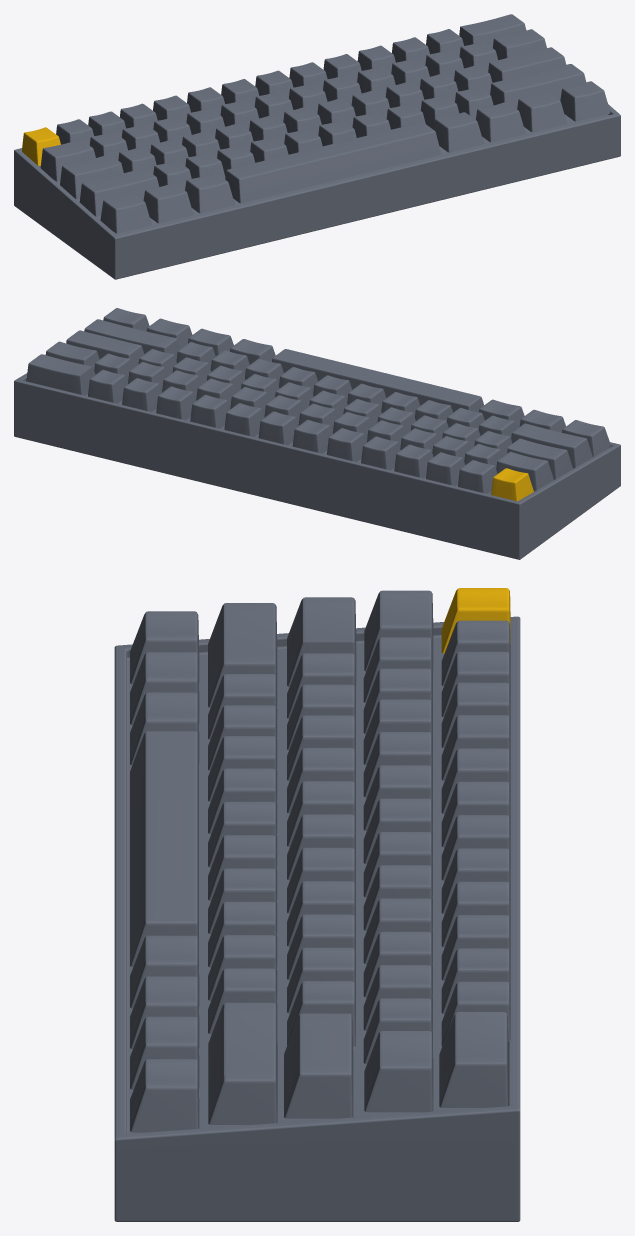
File: keyboard.glb
3 views of the same model, one above another, from view 1: azimuth 30°, elevation 25°; view 2: azimuth 150°, elevation 25°; view 3: azimuth 270°, elevation 25° (orthographic). The views are drawn at different scales.
Parts seen in each view (by area): view 1: MechKeyboard_01; view 2: MechKeyboard_01; view 3: MechKeyboard_01.
Boxes of the visible parts, bbox=[...] form: MechKeyboard_01: bbox=[14, 14, 620, 279]; MechKeyboard_01: bbox=[14, 308, 620, 559]; MechKeyboard_01: bbox=[114, 588, 520, 1221].
Size of the model in its own units: 0.291 by 0.0408 by 0.101.
